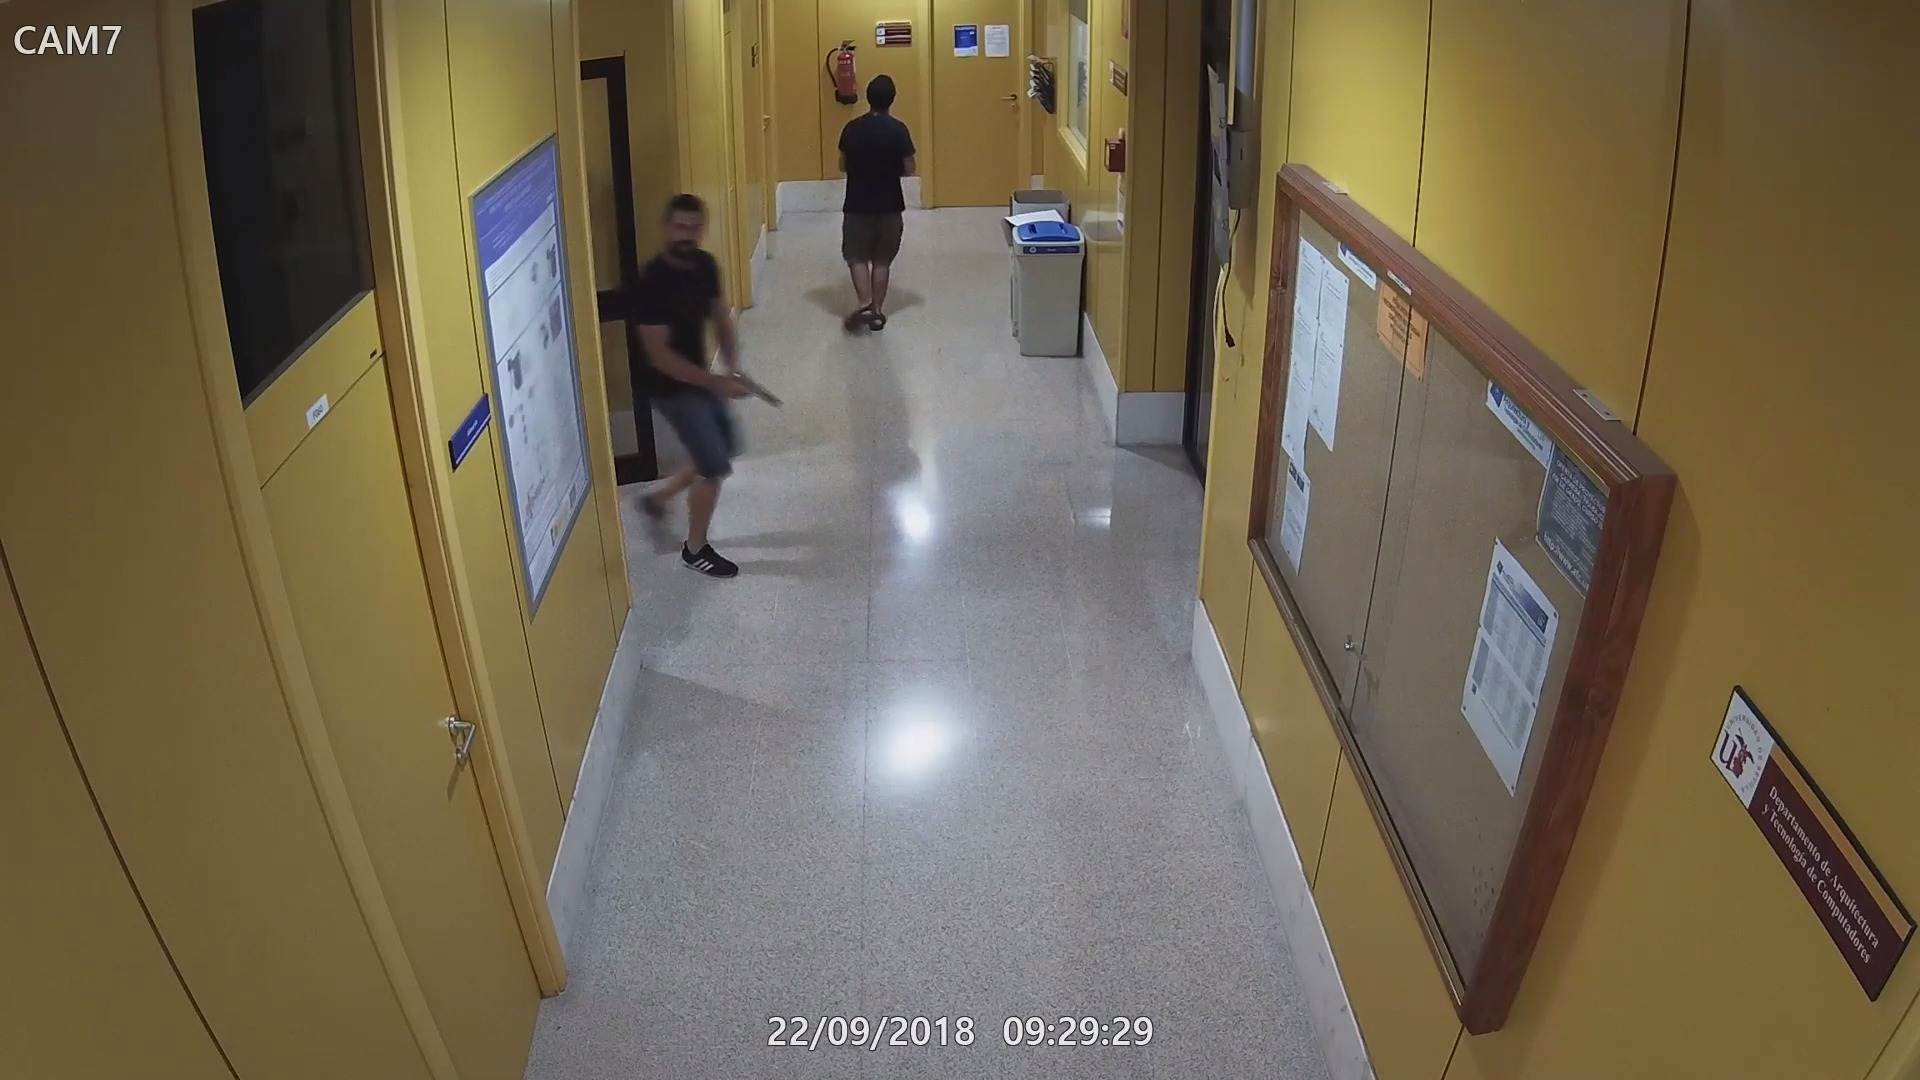Handgun: (713, 368, 785, 407)
